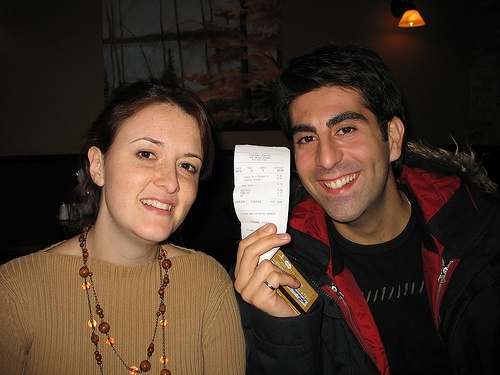head: (87, 83, 206, 250), (290, 71, 405, 226)
person: (226, 45, 493, 371), (3, 78, 245, 375)
